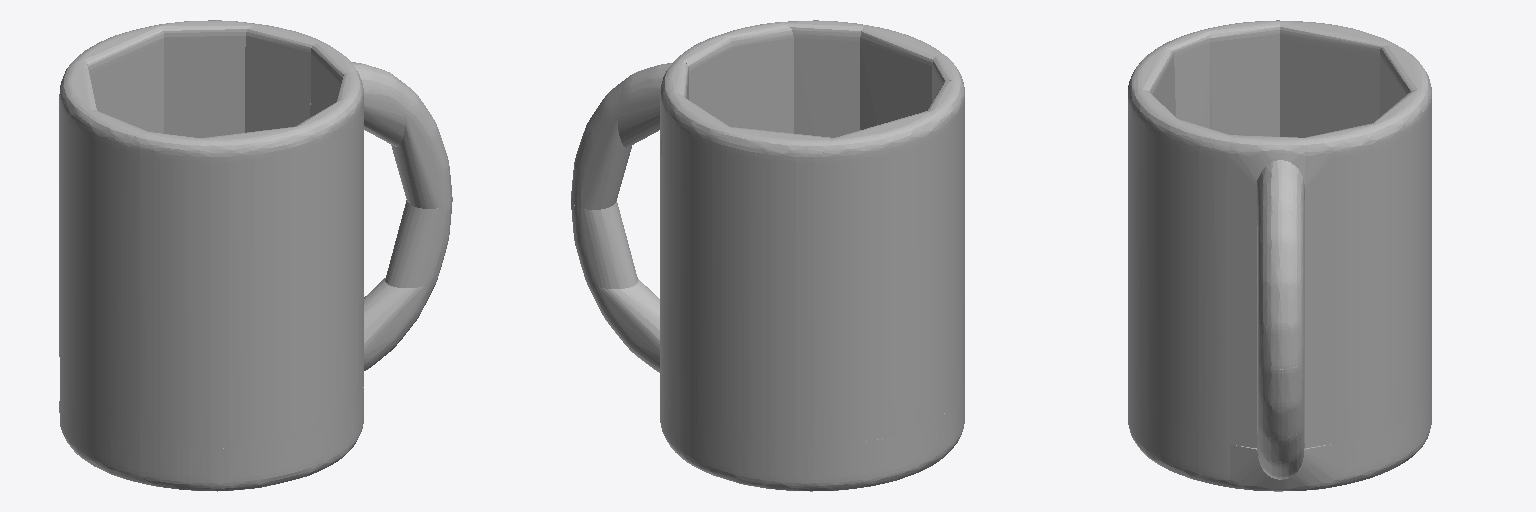
URDF robot description (root):
<robot name="root">
  <link name="object">
    <visual>
      <origin xyz="0 0 0" rpy="0 0 0"/>
      <geometry>
        <mesh filename="coacd_convex_piece_0.obj" scale="1.0000E+00 1.0000E+00 1.0000E+00"/>
      </geometry>
      <material name="">
        <color rgba="7.50E-01 7.50E-01 7.50E-01 1"/>
      </material>
    </visual>
    <collision>
      <origin xyz="0 0 0" rpy="0 0 0"/>
      <geometry>
        <mesh filename="coacd_convex_piece_0.obj" scale="1.0000E+00 1.0000E+00 1.0000E+00"/>
      </geometry>
    </collision>
    <visual>
      <origin xyz="0 0 0" rpy="0 0 0"/>
      <geometry>
        <mesh filename="coacd_convex_piece_1.obj" scale="1.0000E+00 1.0000E+00 1.0000E+00"/>
      </geometry>
      <material name="">
        <color rgba="7.50E-01 7.50E-01 7.50E-01 1"/>
      </material>
    </visual>
    <collision>
      <origin xyz="0 0 0" rpy="0 0 0"/>
      <geometry>
        <mesh filename="coacd_convex_piece_1.obj" scale="1.0000E+00 1.0000E+00 1.0000E+00"/>
      </geometry>
    </collision>
    <visual>
      <origin xyz="0 0 0" rpy="0 0 0"/>
      <geometry>
        <mesh filename="coacd_convex_piece_2.obj" scale="1.0000E+00 1.0000E+00 1.0000E+00"/>
      </geometry>
      <material name="">
        <color rgba="7.50E-01 7.50E-01 7.50E-01 1"/>
      </material>
    </visual>
    <collision>
      <origin xyz="0 0 0" rpy="0 0 0"/>
      <geometry>
        <mesh filename="coacd_convex_piece_2.obj" scale="1.0000E+00 1.0000E+00 1.0000E+00"/>
      </geometry>
    </collision>
    <visual>
      <origin xyz="0 0 0" rpy="0 0 0"/>
      <geometry>
        <mesh filename="coacd_convex_piece_3.obj" scale="1.0000E+00 1.0000E+00 1.0000E+00"/>
      </geometry>
      <material name="">
        <color rgba="7.50E-01 7.50E-01 7.50E-01 1"/>
      </material>
    </visual>
    <collision>
      <origin xyz="0 0 0" rpy="0 0 0"/>
      <geometry>
        <mesh filename="coacd_convex_piece_3.obj" scale="1.0000E+00 1.0000E+00 1.0000E+00"/>
      </geometry>
    </collision>
    <visual>
      <origin xyz="0 0 0" rpy="0 0 0"/>
      <geometry>
        <mesh filename="coacd_convex_piece_4.obj" scale="1.0000E+00 1.0000E+00 1.0000E+00"/>
      </geometry>
      <material name="">
        <color rgba="7.50E-01 7.50E-01 7.50E-01 1"/>
      </material>
    </visual>
    <collision>
      <origin xyz="0 0 0" rpy="0 0 0"/>
      <geometry>
        <mesh filename="coacd_convex_piece_4.obj" scale="1.0000E+00 1.0000E+00 1.0000E+00"/>
      </geometry>
    </collision>
    <visual>
      <origin xyz="0 0 0" rpy="0 0 0"/>
      <geometry>
        <mesh filename="coacd_convex_piece_5.obj" scale="1.0000E+00 1.0000E+00 1.0000E+00"/>
      </geometry>
      <material name="">
        <color rgba="7.50E-01 7.50E-01 7.50E-01 1"/>
      </material>
    </visual>
    <collision>
      <origin xyz="0 0 0" rpy="0 0 0"/>
      <geometry>
        <mesh filename="coacd_convex_piece_5.obj" scale="1.0000E+00 1.0000E+00 1.0000E+00"/>
      </geometry>
    </collision>
    <visual>
      <origin xyz="0 0 0" rpy="0 0 0"/>
      <geometry>
        <mesh filename="coacd_convex_piece_6.obj" scale="1.0000E+00 1.0000E+00 1.0000E+00"/>
      </geometry>
      <material name="">
        <color rgba="7.50E-01 7.50E-01 7.50E-01 1"/>
      </material>
    </visual>
    <collision>
      <origin xyz="0 0 0" rpy="0 0 0"/>
      <geometry>
        <mesh filename="coacd_convex_piece_6.obj" scale="1.0000E+00 1.0000E+00 1.0000E+00"/>
      </geometry>
    </collision>
    <visual>
      <origin xyz="0 0 0" rpy="0 0 0"/>
      <geometry>
        <mesh filename="coacd_convex_piece_7.obj" scale="1.0000E+00 1.0000E+00 1.0000E+00"/>
      </geometry>
      <material name="">
        <color rgba="7.50E-01 7.50E-01 7.50E-01 1"/>
      </material>
    </visual>
    <collision>
      <origin xyz="0 0 0" rpy="0 0 0"/>
      <geometry>
        <mesh filename="coacd_convex_piece_7.obj" scale="1.0000E+00 1.0000E+00 1.0000E+00"/>
      </geometry>
    </collision>
    <visual>
      <origin xyz="0 0 0" rpy="0 0 0"/>
      <geometry>
        <mesh filename="coacd_convex_piece_8.obj" scale="1.0000E+00 1.0000E+00 1.0000E+00"/>
      </geometry>
      <material name="">
        <color rgba="7.50E-01 7.50E-01 7.50E-01 1"/>
      </material>
    </visual>
    <collision>
      <origin xyz="0 0 0" rpy="0 0 0"/>
      <geometry>
        <mesh filename="coacd_convex_piece_8.obj" scale="1.0000E+00 1.0000E+00 1.0000E+00"/>
      </geometry>
    </collision>
    <visual>
      <origin xyz="0 0 0" rpy="0 0 0"/>
      <geometry>
        <mesh filename="coacd_convex_piece_9.obj" scale="1.0000E+00 1.0000E+00 1.0000E+00"/>
      </geometry>
      <material name="">
        <color rgba="7.50E-01 7.50E-01 7.50E-01 1"/>
      </material>
    </visual>
    <collision>
      <origin xyz="0 0 0" rpy="0 0 0"/>
      <geometry>
        <mesh filename="coacd_convex_piece_9.obj" scale="1.0000E+00 1.0000E+00 1.0000E+00"/>
      </geometry>
    </collision>
    <visual>
      <origin xyz="0 0 0" rpy="0 0 0"/>
      <geometry>
        <mesh filename="coacd_convex_piece_10.obj" scale="1.0000E+00 1.0000E+00 1.0000E+00"/>
      </geometry>
      <material name="">
        <color rgba="7.50E-01 7.50E-01 7.50E-01 1"/>
      </material>
    </visual>
    <collision>
      <origin xyz="0 0 0" rpy="0 0 0"/>
      <geometry>
        <mesh filename="coacd_convex_piece_10.obj" scale="1.0000E+00 1.0000E+00 1.0000E+00"/>
      </geometry>
    </collision>
    <visual>
      <origin xyz="0 0 0" rpy="0 0 0"/>
      <geometry>
        <mesh filename="coacd_convex_piece_11.obj" scale="1.0000E+00 1.0000E+00 1.0000E+00"/>
      </geometry>
      <material name="">
        <color rgba="7.50E-01 7.50E-01 7.50E-01 1"/>
      </material>
    </visual>
    <collision>
      <origin xyz="0 0 0" rpy="0 0 0"/>
      <geometry>
        <mesh filename="coacd_convex_piece_11.obj" scale="1.0000E+00 1.0000E+00 1.0000E+00"/>
      </geometry>
    </collision>
    <visual>
      <origin xyz="0 0 0" rpy="0 0 0"/>
      <geometry>
        <mesh filename="coacd_convex_piece_12.obj" scale="1.0000E+00 1.0000E+00 1.0000E+00"/>
      </geometry>
      <material name="">
        <color rgba="7.50E-01 7.50E-01 7.50E-01 1"/>
      </material>
    </visual>
    <collision>
      <origin xyz="0 0 0" rpy="0 0 0"/>
      <geometry>
        <mesh filename="coacd_convex_piece_12.obj" scale="1.0000E+00 1.0000E+00 1.0000E+00"/>
      </geometry>
    </collision>
    <visual>
      <origin xyz="0 0 0" rpy="0 0 0"/>
      <geometry>
        <mesh filename="coacd_convex_piece_13.obj" scale="1.0000E+00 1.0000E+00 1.0000E+00"/>
      </geometry>
      <material name="">
        <color rgba="7.50E-01 7.50E-01 7.50E-01 1"/>
      </material>
    </visual>
    <collision>
      <origin xyz="0 0 0" rpy="0 0 0"/>
      <geometry>
        <mesh filename="coacd_convex_piece_13.obj" scale="1.0000E+00 1.0000E+00 1.0000E+00"/>
      </geometry>
    </collision>
    <visual>
      <origin xyz="0 0 0" rpy="0 0 0"/>
      <geometry>
        <mesh filename="coacd_convex_piece_14.obj" scale="1.0000E+00 1.0000E+00 1.0000E+00"/>
      </geometry>
      <material name="">
        <color rgba="7.50E-01 7.50E-01 7.50E-01 1"/>
      </material>
    </visual>
    <collision>
      <origin xyz="0 0 0" rpy="0 0 0"/>
      <geometry>
        <mesh filename="coacd_convex_piece_14.obj" scale="1.0000E+00 1.0000E+00 1.0000E+00"/>
      </geometry>
    </collision>
    <visual>
      <origin xyz="0 0 0" rpy="0 0 0"/>
      <geometry>
        <mesh filename="coacd_convex_piece_15.obj" scale="1.0000E+00 1.0000E+00 1.0000E+00"/>
      </geometry>
      <material name="">
        <color rgba="7.50E-01 7.50E-01 7.50E-01 1"/>
      </material>
    </visual>
    <collision>
      <origin xyz="0 0 0" rpy="0 0 0"/>
      <geometry>
        <mesh filename="coacd_convex_piece_15.obj" scale="1.0000E+00 1.0000E+00 1.0000E+00"/>
      </geometry>
    </collision>
    <visual>
      <origin xyz="0 0 0" rpy="0 0 0"/>
      <geometry>
        <mesh filename="coacd_convex_piece_16.obj" scale="1.0000E+00 1.0000E+00 1.0000E+00"/>
      </geometry>
      <material name="">
        <color rgba="7.50E-01 7.50E-01 7.50E-01 1"/>
      </material>
    </visual>
    <collision>
      <origin xyz="0 0 0" rpy="0 0 0"/>
      <geometry>
        <mesh filename="coacd_convex_piece_16.obj" scale="1.0000E+00 1.0000E+00 1.0000E+00"/>
      </geometry>
    </collision>
  </link>
</robot>

--- What the picture shows (computed from the rendered views, not written in the file) ---
3 views of the same robot in one strip: view 1: azimuth 30°, elevation 25°; view 2: azimuth 150°, elevation 25°; view 3: azimuth 270°, elevation 25° (orthographic).
Model root with 1 links and 0 joints (none), rooted at object, posed every joint at zero.
Links seen in each view (by area): view 1: object; view 2: object; view 3: object.
Boxes of the visible links, bbox=[...] form: object: bbox=[59, 20, 452, 491]; object: bbox=[571, 20, 964, 491]; object: bbox=[1128, 20, 1431, 491].
Size in the robot's own frame: 0.1171 by 0.0835 by 0.106 metres.
Meshes: 17 distinct files referenced, 17 mesh visuals loaded (17 OBJ).
